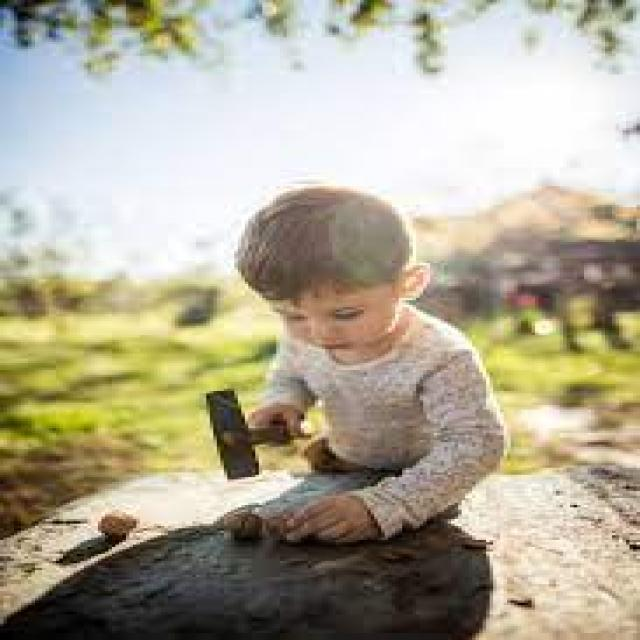hammer: (170, 388, 324, 482)
